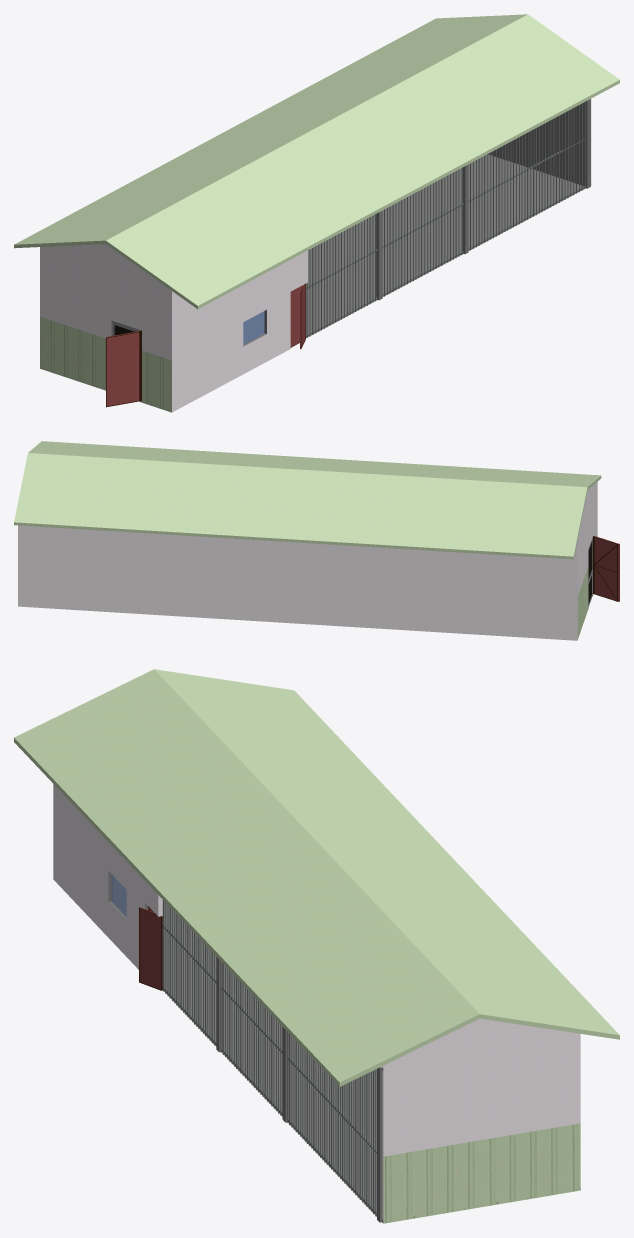
3 renders of one model, top to bottom at view 1: azimuth 30°, elevation 25°; view 2: azimuth 150°, elevation 25°; view 3: azimuth 270°, elevation 25°, orthographic. The views are drawn at different scales.
Parts seen in each view (by area): view 1: R(修正版), object 5, 元件#13; view 2: R(修正版), object 5; view 3: R(修正版), 元件#13.
Part boxes in pixels (x1,y1,x2,y2): R(修正版): (14,14,619,412); object 5: (106,331,139,406); 元件#13: (290,283,305,349); R(修正版): (14,441,601,640); object 5: (594,536,619,601); R(修正版): (14,669,619,1223); 元件#13: (139,906,162,990).
Size of the model in its own units: 18.78 by 4.34 by 12.26.
Materials: 11 (6 with a texture image).
